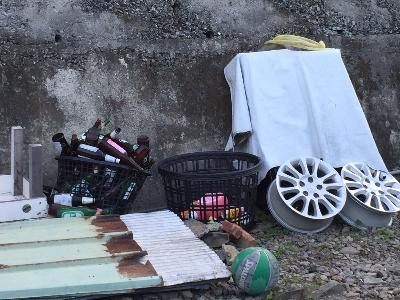bottle: (99, 138, 152, 178), (75, 143, 120, 165), (48, 192, 102, 207), (54, 206, 111, 217)
